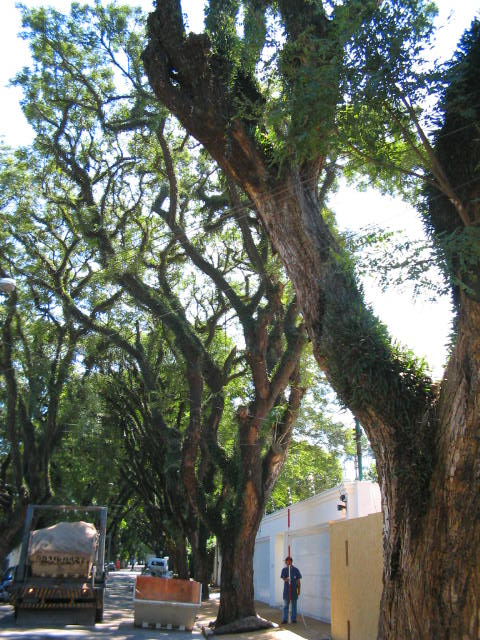stem: (207, 531, 266, 628)
stick: (281, 505, 298, 622)
tree: (9, 3, 359, 630)
